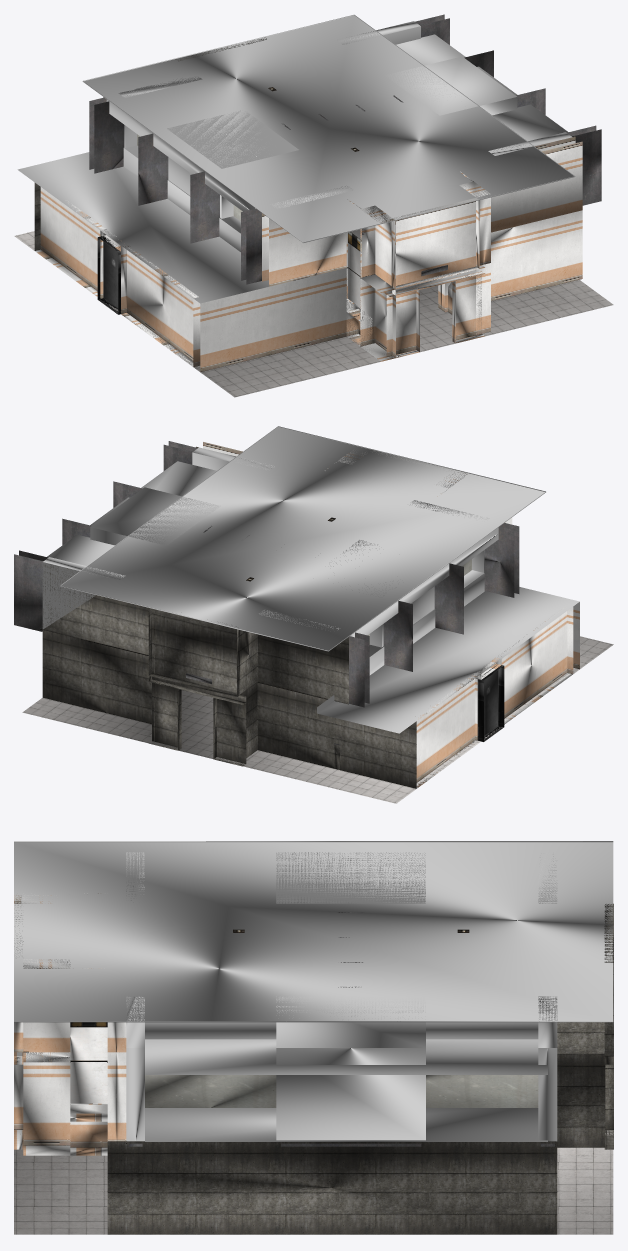
File: checkpoint2_opt.obj
The picture shows the model from 3 angles, top to bottom: view 1: azimuth 30°, elevation 25°; view 2: azimuth 150°, elevation 25°; view 3: azimuth 270°, elevation 25°; orthographic projection. The views are drawn at different scales.
Bounding box in the file's own units: 110 × 35.4 × 103.
